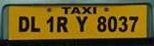numberplate: (7, 4, 149, 39)
